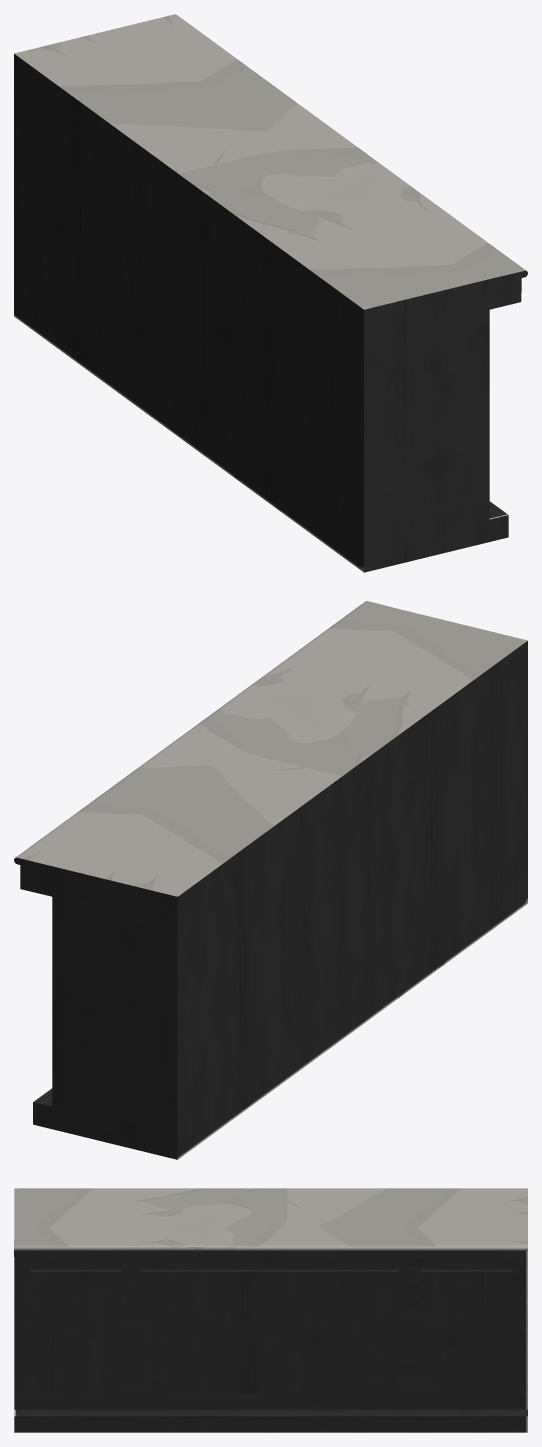
File: countertopcontinous.fbx
3 renders of one model, top to bottom at view 1: azimuth 30°, elevation 25°; view 2: azimuth 150°, elevation 25°; view 3: azimuth 270°, elevation 25°, orthographic. The views are drawn at different scales.
Visible parts, largest first — view 1: continouscoutner1; view 2: continouscoutner1; view 3: continouscoutner1.
Part boxes in pixels (box(x1,y1,x2,y2)): continouscoutner1: box(14, 14, 527, 572); continouscoutner1: box(14, 601, 527, 1159); continouscoutner1: box(14, 1188, 527, 1432).
Bounding box in the file's own units: 2.58 × 3.96 × 9.57.
Materials: 1 (1 with a texture image).
